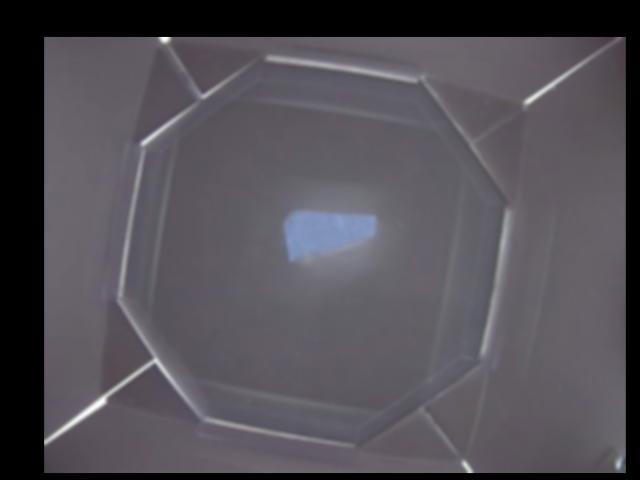China: (283, 215, 376, 262)
